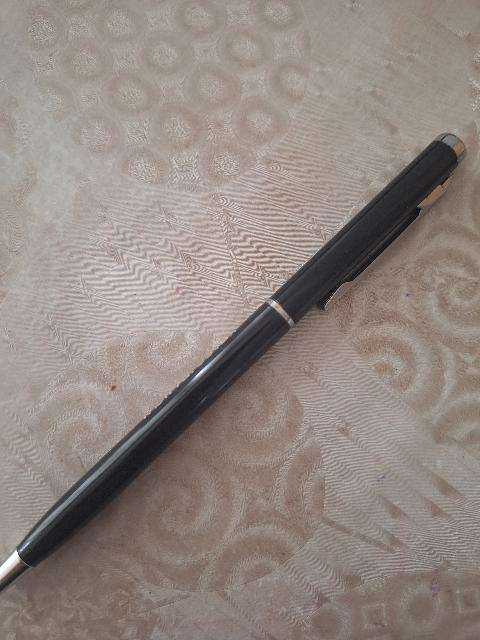writing_tool: (0, 125, 480, 588)
